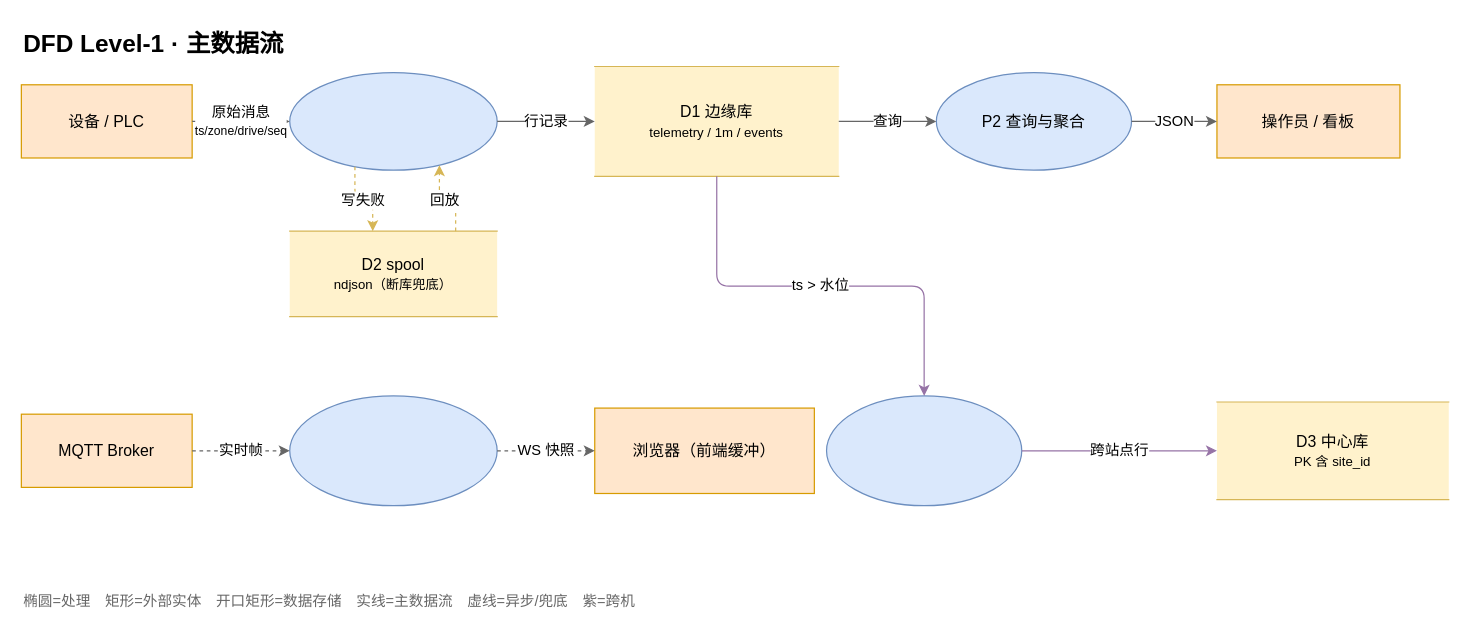
Image size: 1470x634. Some labels were removed from this diagram. The box of each missing label's shape, as (x1, y1, x2, y2) in pixels:
P1 接收与幂等入库: (289, 71, 497, 170)
P3 实时推送 WS 快照 10fps: (289, 395, 497, 506)
P4 水位转发: (825, 395, 1022, 506)
